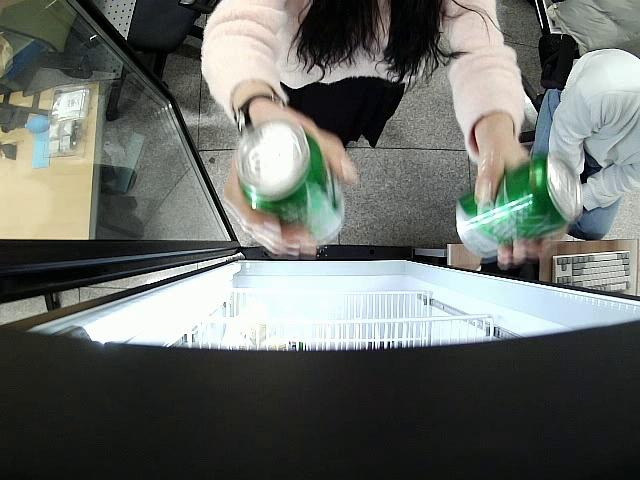00_hand: (219, 107, 361, 257), (473, 123, 566, 267)
12_chilsungCider: (234, 117, 348, 243), (457, 157, 581, 259)
